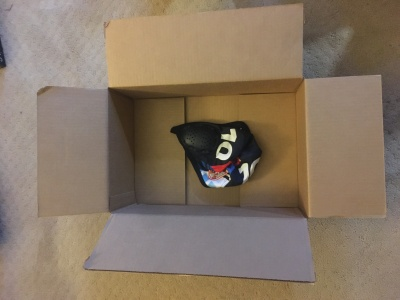innerbox: (109, 88, 308, 215)
outerbox: (40, 13, 388, 285)
product: (172, 120, 263, 188)
